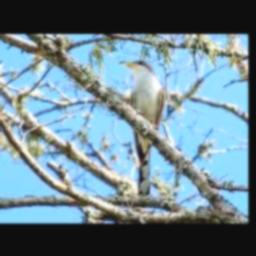Cuckoo: (120, 60, 166, 200)
